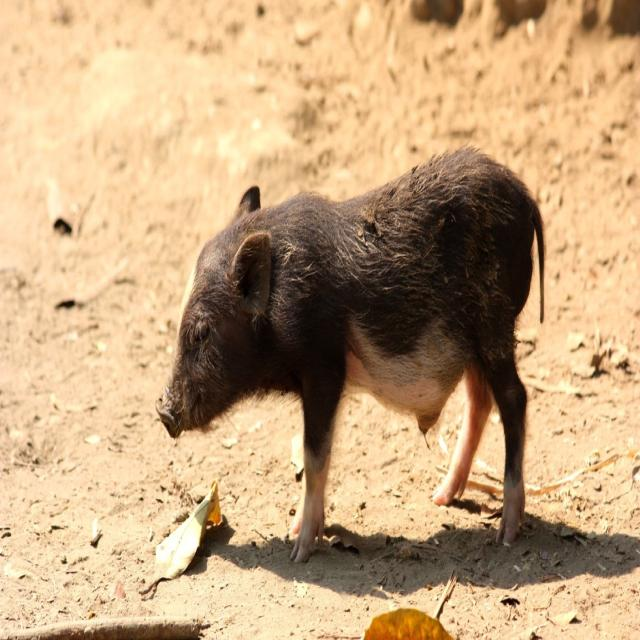pig: (159, 148, 549, 565)
